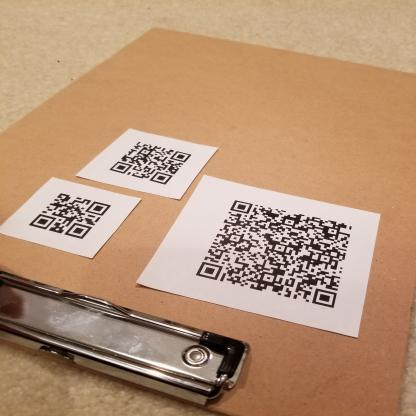qr: (188, 195, 361, 318), (28, 189, 116, 247), (108, 140, 197, 189)
